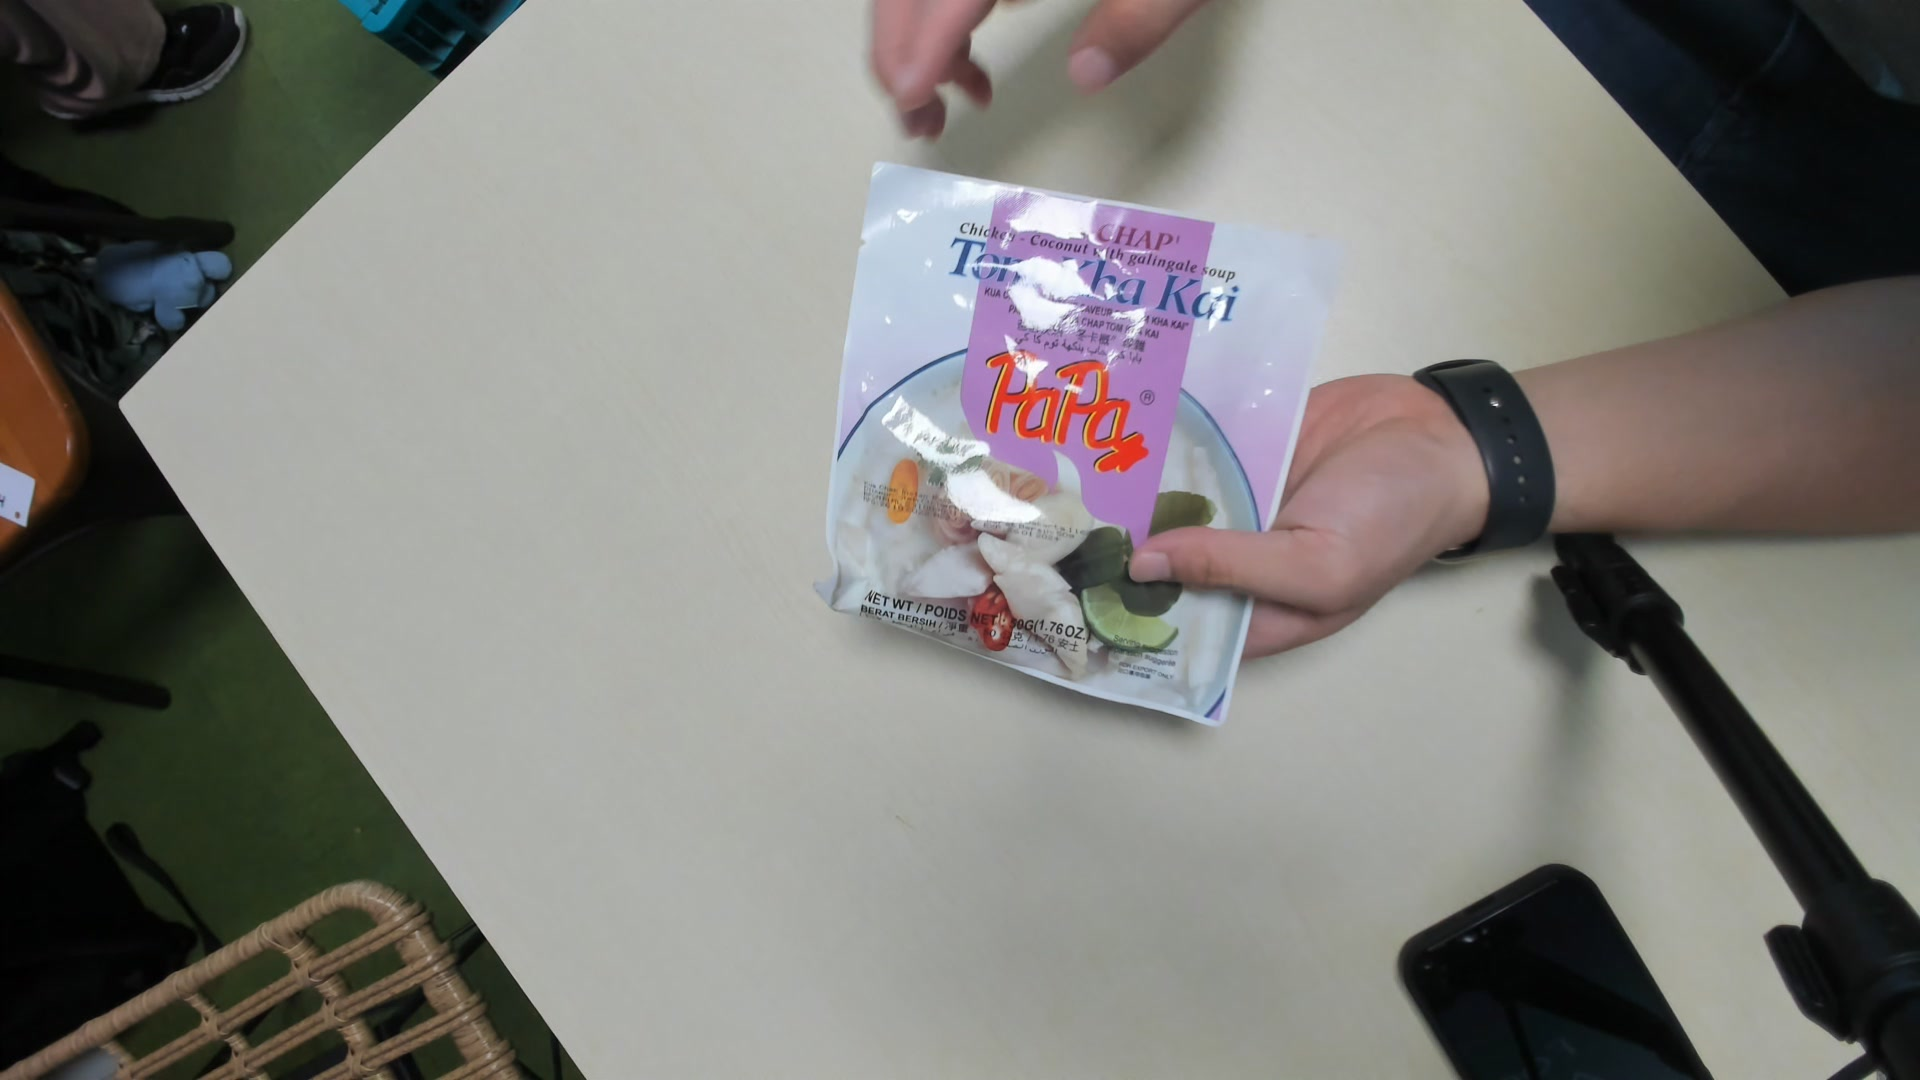OtherSauceDressing_0-99g_NonHalal_NonHealthy: (815, 162, 1346, 731)
